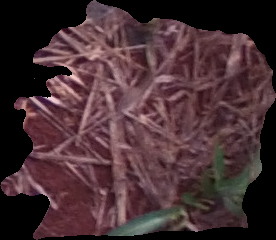soil: (1, 1, 276, 239)
